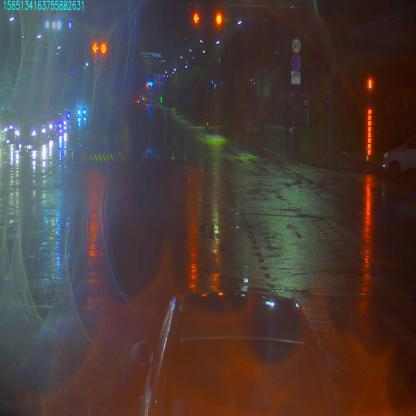traffic-light: (215, 10, 224, 29), (193, 9, 200, 28)
